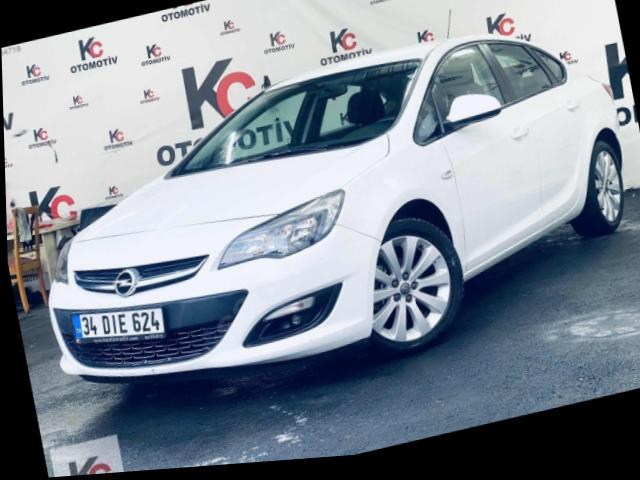plaka: (71, 307, 164, 343)
